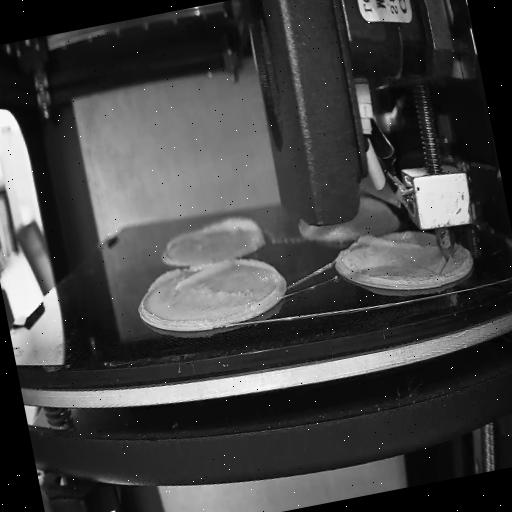over_extrusion: (145, 256, 238, 298), (357, 226, 433, 269), (234, 250, 288, 310), (198, 210, 268, 255), (440, 256, 456, 275)
